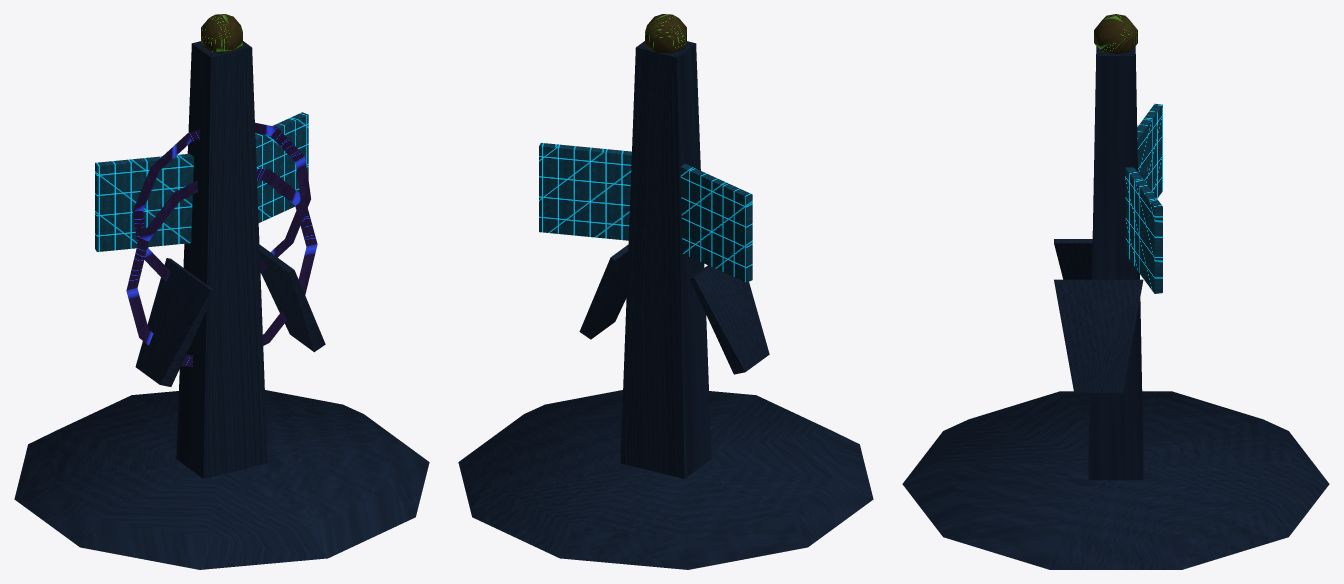
The model's file is command-horizon-wayfinding-lod2-textured.glb.
3 views of the same model, side by side, from view 1: azimuth 30°, elevation 25°; view 2: azimuth 150°, elevation 25°; view 3: azimuth 270°, elevation 25° (orthographic).
Parts seen in each view (by area): view 1: wayfinding-base, wayfinding-spine, wayfinding-panel--1, wayfinding-wing--1, wayfinding-ring-0, wayfinding-ring-1, wayfinding-panel-1, wayfinding-wing-1, wayfinding-beacon; view 2: wayfinding-base, wayfinding-spine, wayfinding-panel-1, wayfinding-panel--1, wayfinding-wing--1, wayfinding-wing-1, wayfinding-beacon; view 3: wayfinding-base, wayfinding-spine, wayfinding-wing-1, wayfinding-panel-1, wayfinding-panel--1, wayfinding-beacon, wayfinding-wing--1.
Part boxes in pixels (left/top/right/bottom): wayfinding-base: left=14, top=390, right=429, bottom=569; wayfinding-spine: left=176, top=41, right=267, bottom=478; wayfinding-panel--1: left=95, top=153, right=193, bottom=251; wayfinding-wing--1: left=135, top=258, right=215, bottom=386; wayfinding-ring-0: left=126, top=169, right=317, bottom=366; wayfinding-ring-1: left=132, top=122, right=310, bottom=281; wayfinding-panel-1: left=255, top=112, right=308, bottom=222; wayfinding-wing-1: left=259, top=244, right=325, bottom=352; wayfinding-beacon: left=201, top=14, right=242, bottom=53; wayfinding-base: left=458, top=390, right=873, bottom=569; wayfinding-spine: left=620, top=41, right=711, bottom=478; wayfinding-panel-1: left=539, top=143, right=631, bottom=240; wayfinding-panel--1: left=680, top=163, right=752, bottom=282; wayfinding-wing--1: left=690, top=265, right=769, bottom=374; wayfinding-wing-1: left=579, top=244, right=628, bottom=339; wayfinding-beacon: left=645, top=14, right=686, bottom=53; wayfinding-base: left=902, top=391, right=1329, bottom=569; wayfinding-spine: left=1088, top=46, right=1143, bottom=480; wayfinding-wing-1: left=1054, top=279, right=1143, bottom=392; wayfinding-panel-1: left=1125, top=167, right=1162, bottom=293; wayfinding-panel--1: left=1137, top=103, right=1162, bottom=198; wayfinding-beacon: left=1094, top=14, right=1137, bottom=53; wayfinding-wing--1: left=1054, top=239, right=1092, bottom=279.
Size of the model in its own units: 2.82 by 3.58 by 2.96.
Materials: 4 (4 with a texture image).
